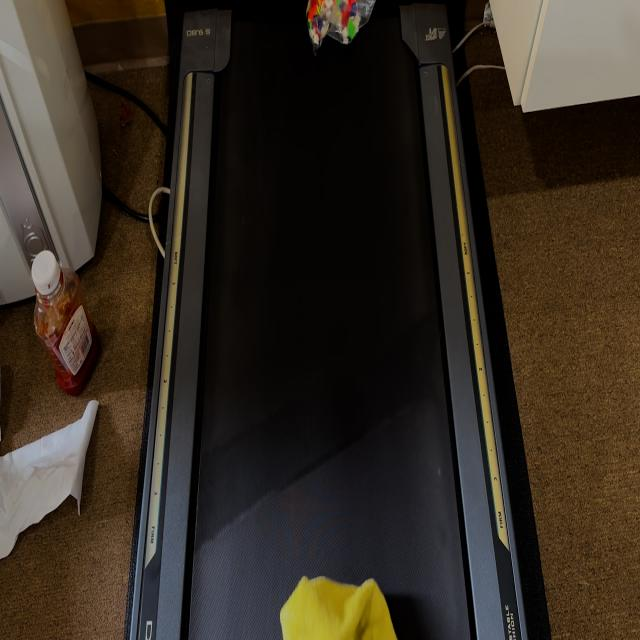Trash: (281, 575, 398, 640), (306, 0, 376, 60)
